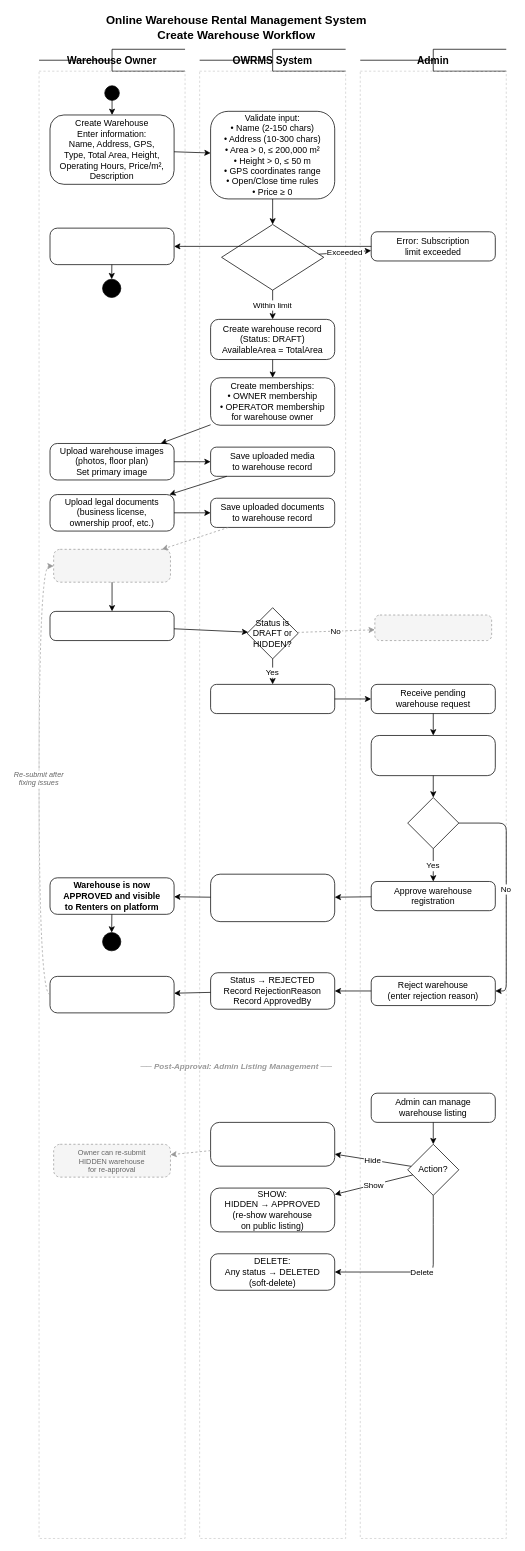
Image size: 525x1551. Some labels were removed from this diagram. The centre of each missing label's shape, as x and y in pixels:
"Check subscription limits: • Warehouse count limit? • Total area limit?" belongs at (x=272, y=257).
"Error: Cannot submit in current status" belongs at (x=433, y=627).
"HIDE: APPROVED → HIDDEN (temporarily hide from public listing)" belongs at (x=272, y=1144).
"Information valid?" belongs at (x=433, y=823).
"Receive error: upgrade subscription plan required" belongs at (x=111, y=246).
"Review & update warehouse information (optional, while DRAFT)" belongs at (x=111, y=565).
"Review warehouse details: Info, Images, Documents, Legal compliance" belongs at (x=432, y=755).
"Status → APPROVED Record ApprovedBy & ApprovedAt timestamp Clear RejectionReason" belongs at (x=272, y=897).
"Submit warehouse for Admin review" belongs at (x=111, y=626).
"Update warehouse Status → PENDING" belongs at (x=272, y=699).
"View rejection reason Owner can update info and re-submit" belongs at (x=111, y=994).
